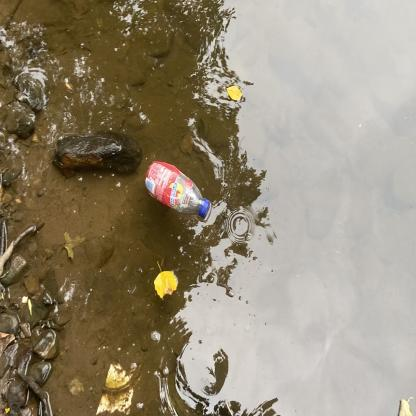trash: (141, 158, 212, 226)
